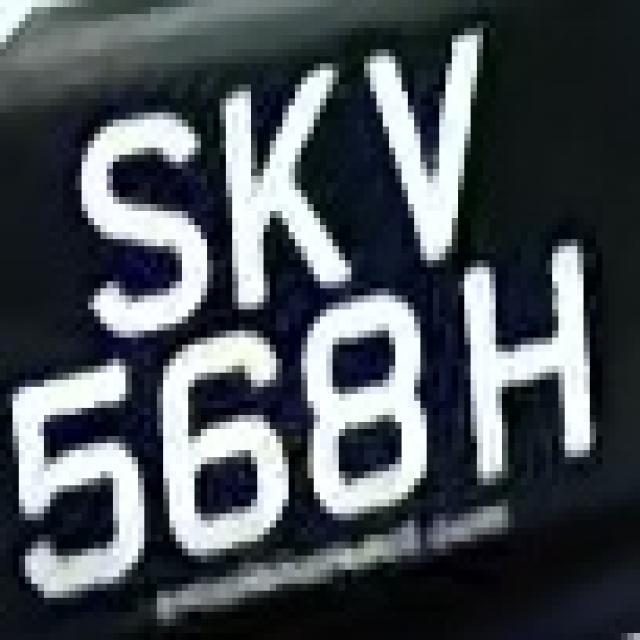5: (6, 359, 144, 612)
6: (144, 330, 314, 556)
8: (301, 282, 439, 514)
H: (439, 218, 596, 506)
K: (201, 49, 351, 331)
S: (63, 77, 213, 345)
V: (339, 14, 502, 274)
